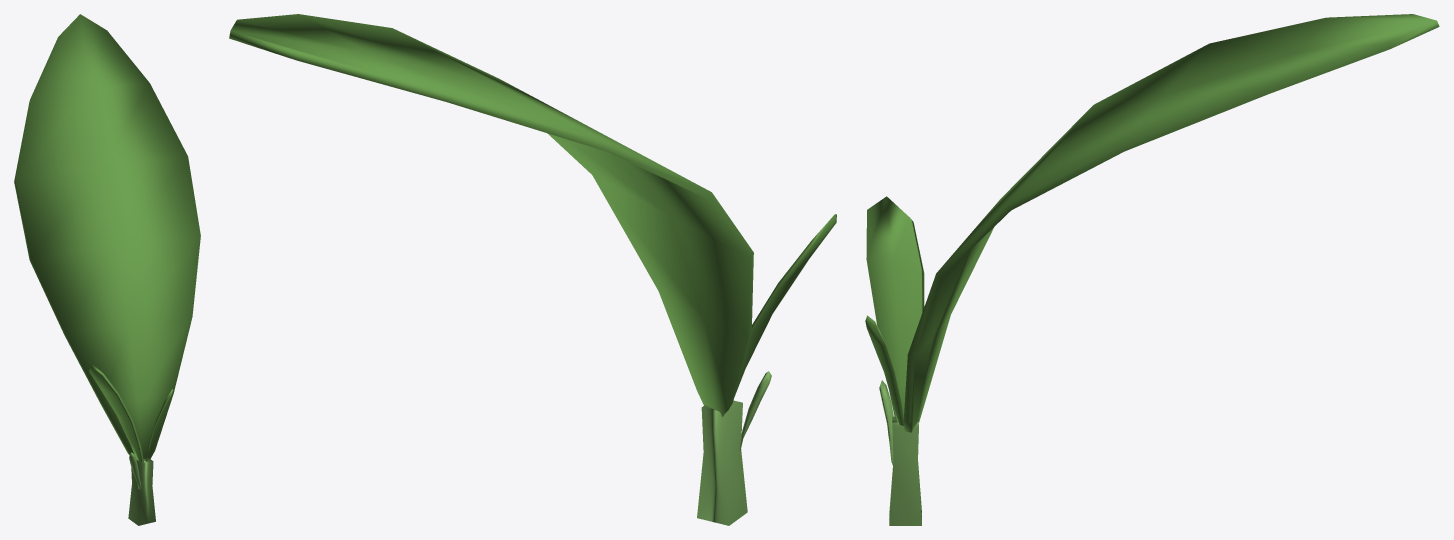
File: bigleaf.fbx
3 renders of one model, left to right at view 1: azimuth 30°, elevation 25°; view 2: azimuth 150°, elevation 25°; view 3: azimuth 270°, elevation 25°, orthographic. The views are drawn at different scales.
Visible parts, largest first — view 1: big leaf; view 2: big leaf; view 3: big leaf.
Part boxes in pixels (<box>): big leaf: <box>14,14,200,525</box>; big leaf: <box>229,14,836,525</box>; big leaf: <box>865,14,1439,525</box>.
Bounding box in the file's own units: 22.53 × 44.04 × 39.56.
